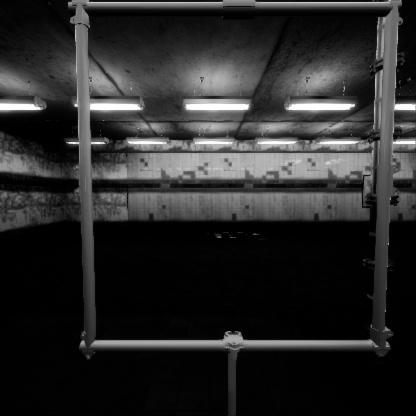gate: (77, 62, 416, 412)
